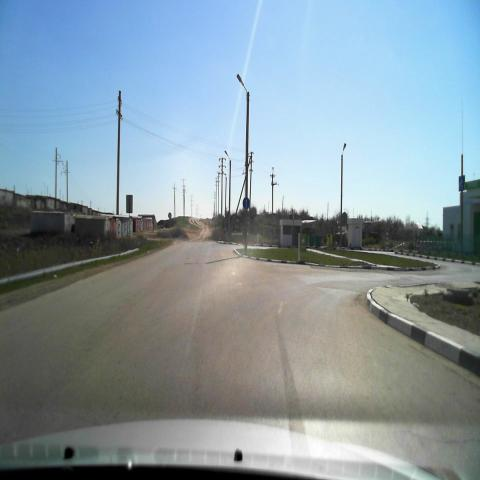4_1_1: (242, 196, 250, 210)
